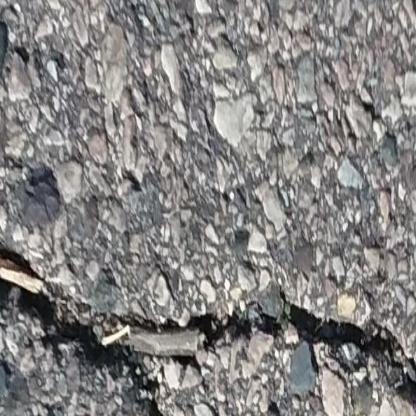Cracks: (0, 239, 416, 416)
